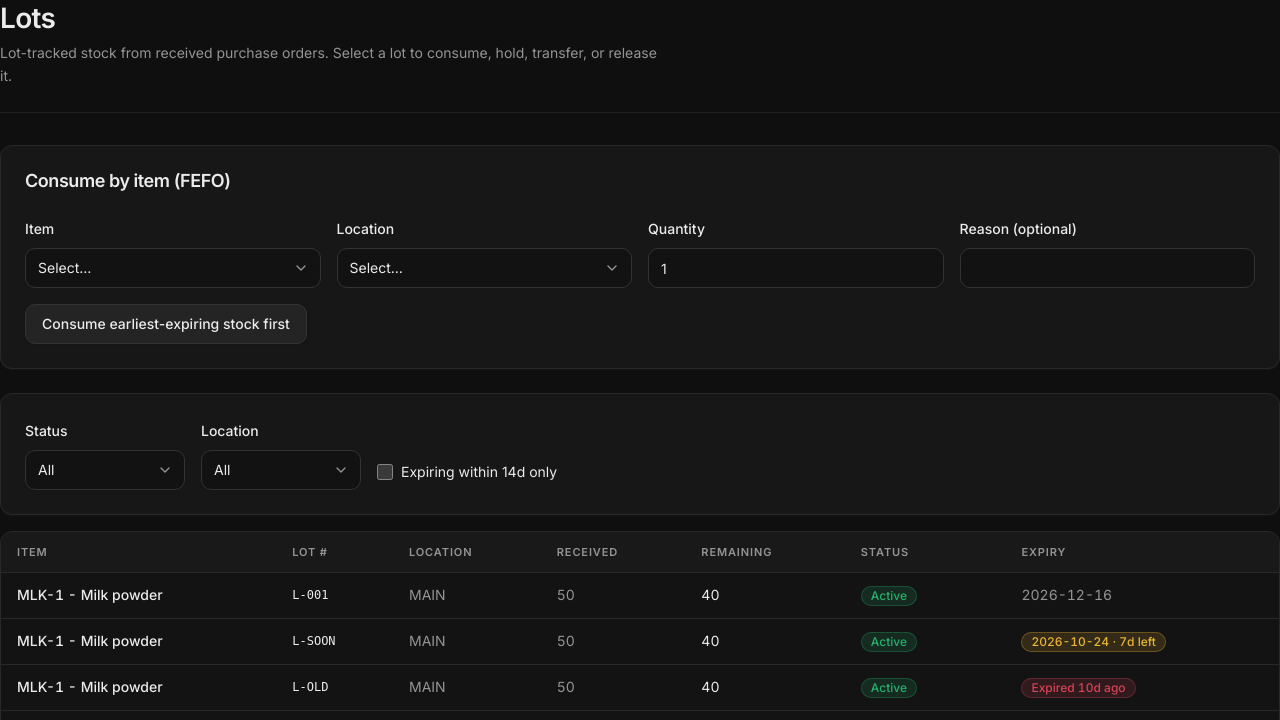
Test: Lots › renders lots with expiry badges and filters to expiring-soon
Expected: the text "L-001" is shown, [276,572,393,618]
Expected: the text "2026-10-24 · 7d left" is shown, [1021,632,1166,652]
Click the checkbox labelled "Expiring within 14d only" at (385, 472), box [377,464,393,480]
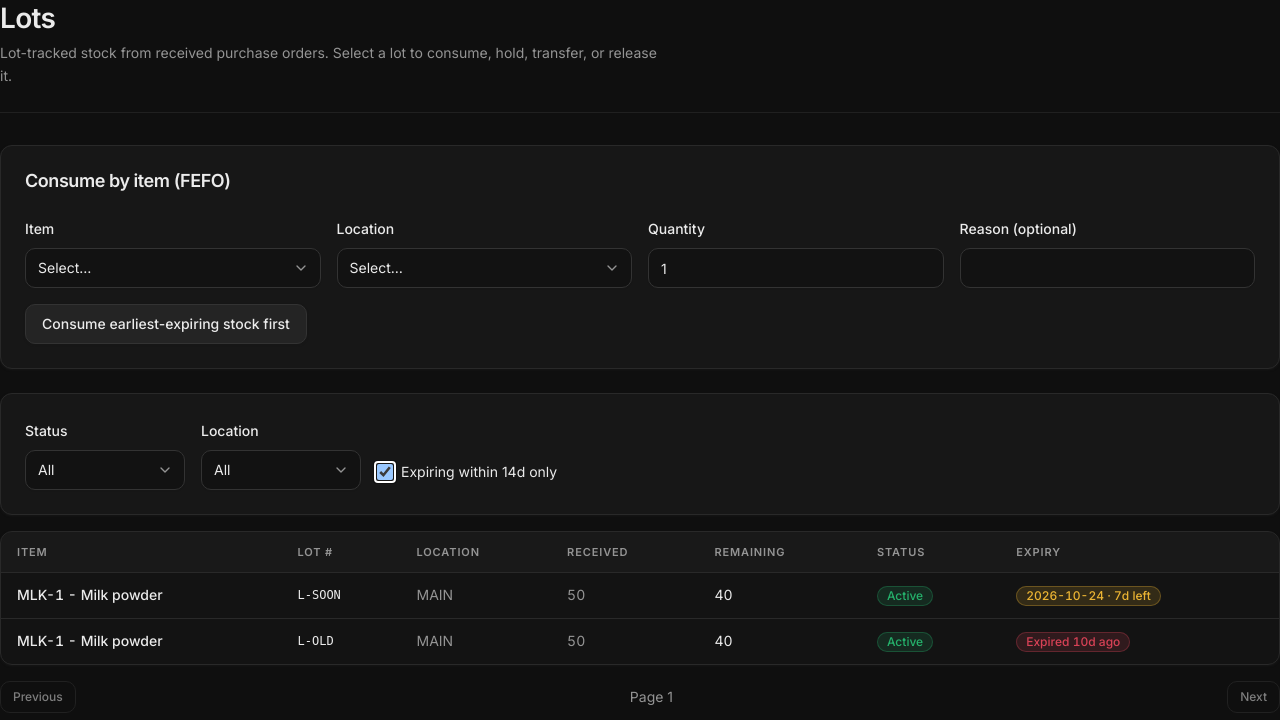
Expected: the text "L-SOON" is shown, [282,572,400,618]
Now the text "L-001" is gone
